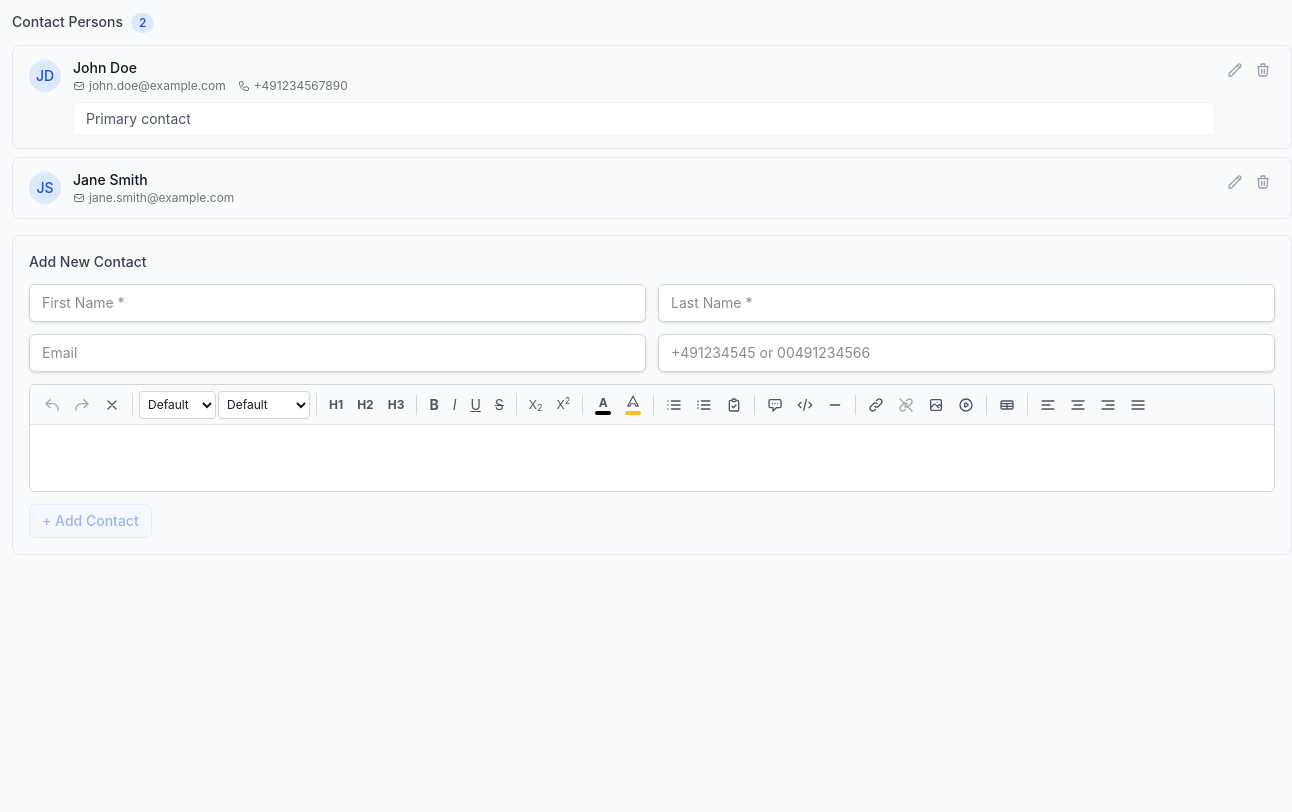
Test case: ContactPersonList › edit contact functionality › enters edit mode when edit button is clicked
Click the button titled "Edit contact" in the row of "+491234567890". click: (1235, 70)
box: [1223, 58, 1247, 82]
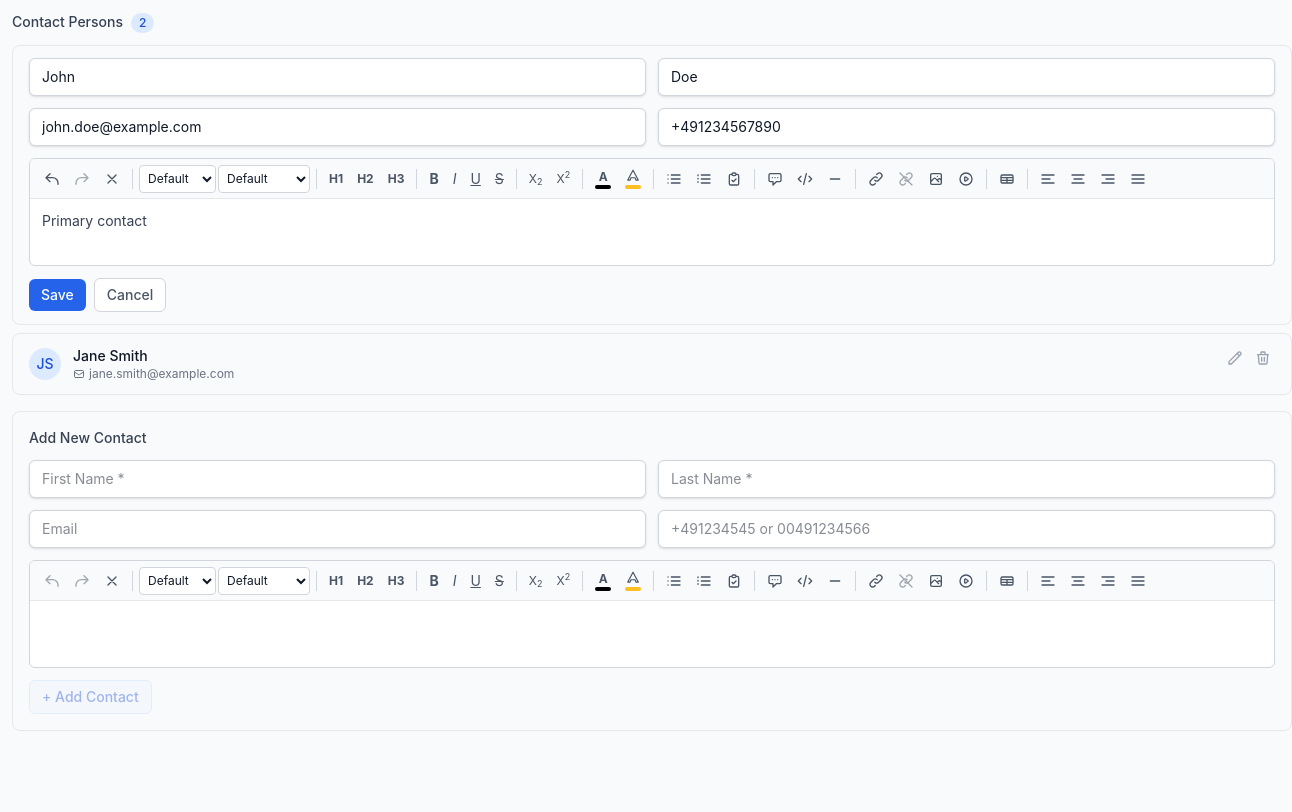
Check: the button "Save" is shown, box [29, 279, 86, 311]
Check: the button "Cancel" is shown, box [94, 278, 166, 312]
